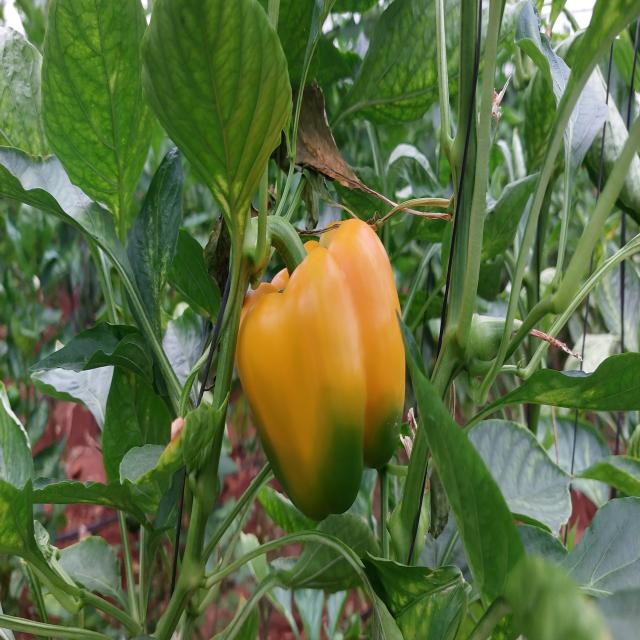GreenishYellow--Can-be-Harvested: (220, 216, 439, 506)
